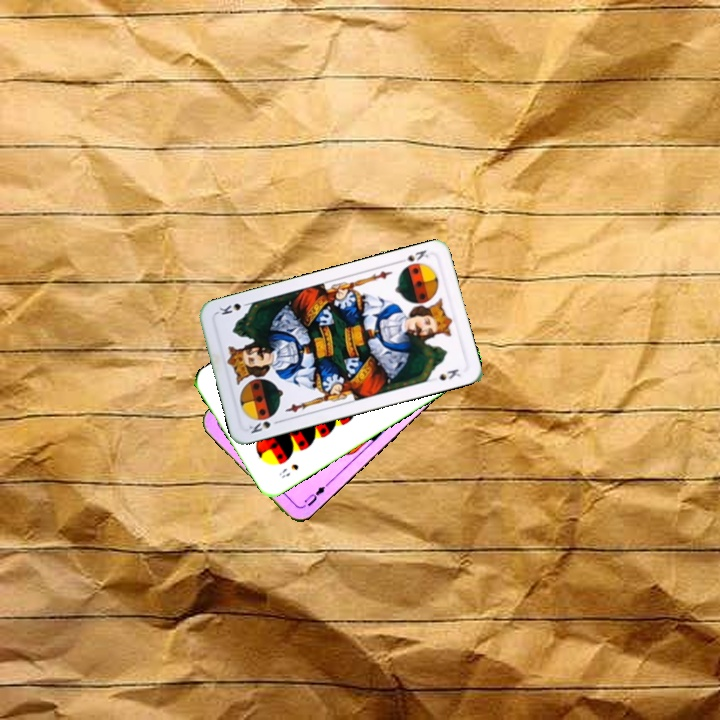EU: (297, 480, 331, 511)
S8: (275, 460, 301, 481)
SK: (245, 416, 284, 436), (394, 246, 431, 266)
